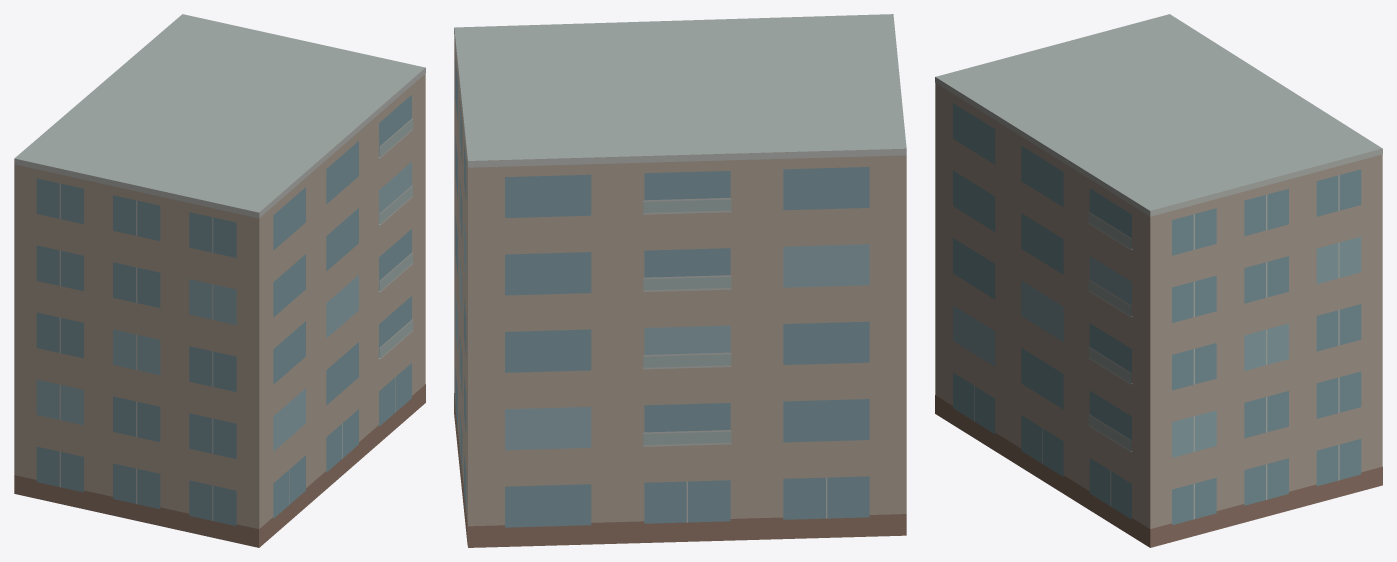
Rendered from survey-upis-32963676.glb.
The picture shows the model from 3 angles, left to right: view 1: azimuth 30°, elevation 25°; view 2: azimuth 150°, elevation 25°; view 3: azimuth 270°, elevation 25°; orthographic projection. The views are drawn at different scales.
Parts seen in each view (by area): view 1: survey-upis-32963676.tmp; view 2: survey-upis-32963676.tmp; view 3: survey-upis-32963676.tmp.
Boxes of the visible parts, x1=… form: survey-upis-32963676.tmp: x1=14, y1=14, x2=425, y2=547; survey-upis-32963676.tmp: x1=454, y1=14, x2=906, y2=547; survey-upis-32963676.tmp: x1=935, y1=14, x2=1382, y2=547.
Size of the model in its own units: 17.82 by 14.2 by 17.11.
